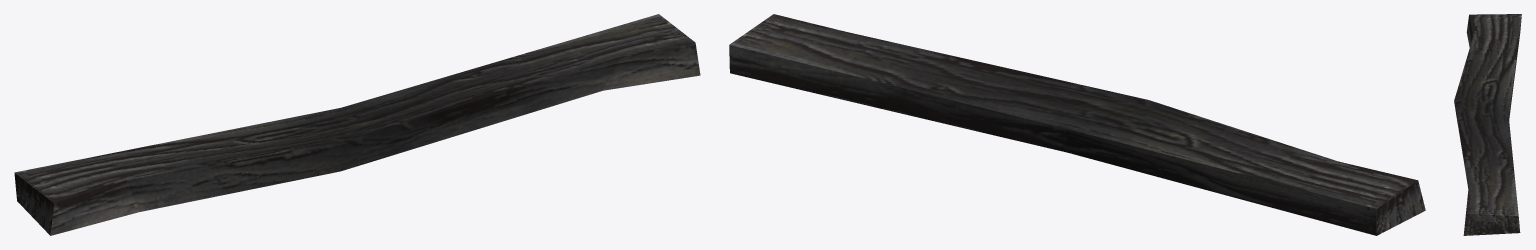
File: snow_curved_old_woodboard.glb
The picture shows the model from 3 angles, left to right: view 1: azimuth 30°, elevation 25°; view 2: azimuth 150°, elevation 25°; view 3: azimuth 270°, elevation 25°; orthographic projection. The views are drawn at different scales.
Parts seen in each view (by area): view 1: _MeshInstance3D_14; view 2: _MeshInstance3D_14; view 3: _MeshInstance3D_14.
Part boxes in pixels (x1,y1,x2,y2): _MeshInstance3D_14: (14,14,700,235); _MeshInstance3D_14: (729,14,1425,235); _MeshInstance3D_14: (1454,14,1521,235).
Size of the model in its own units: 2.01 by 0.1192 by 0.2789.
Materials: 1 (1 with a texture image).
